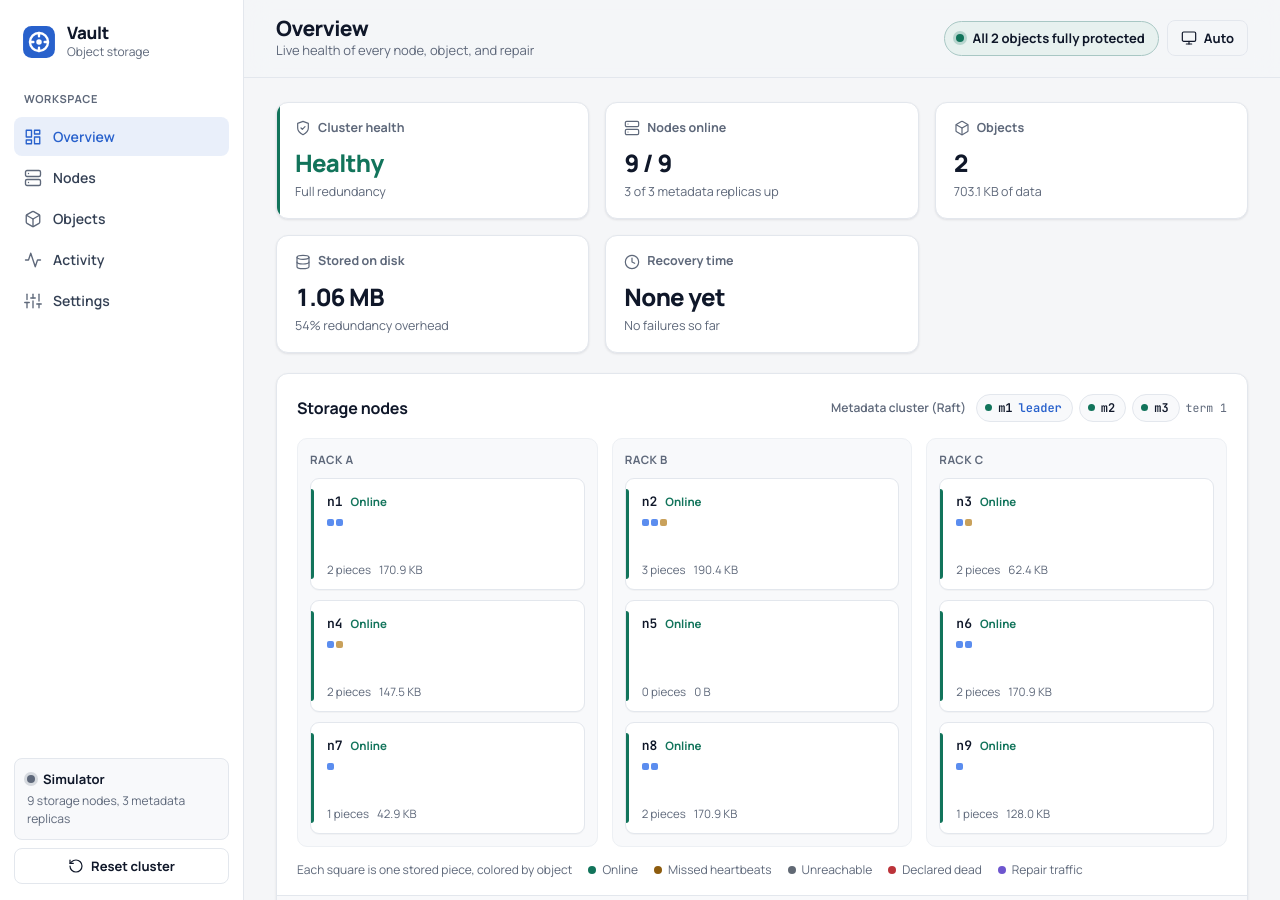
Scenario: <App /> › shows a chunk map with one row per segment and a column per piece
The width and height of the screenshot is (1280, 900).
Click the link "Objects" at (65, 219), box [24,209,106,228]
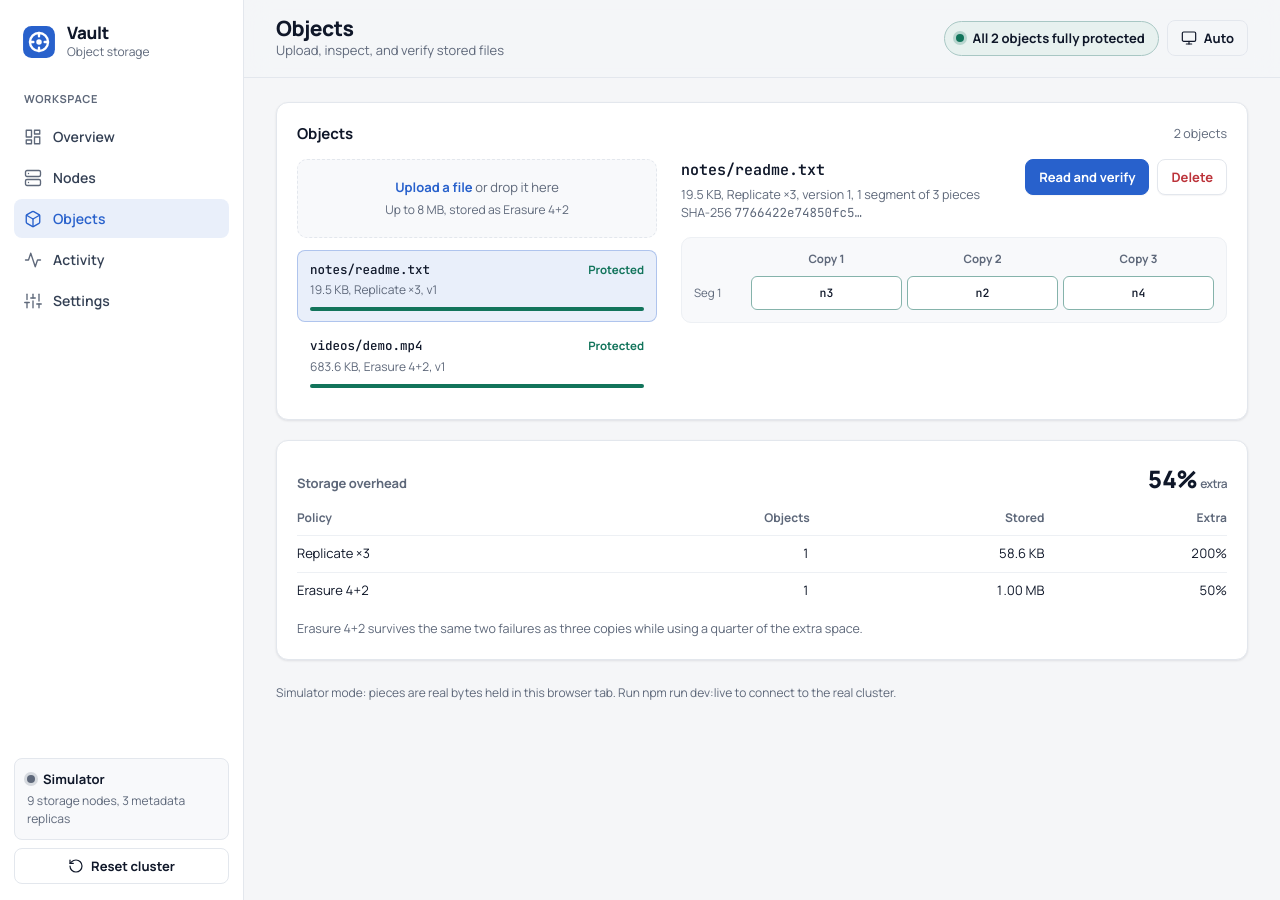
Click the button "videos/demo.mp4 Protected 683.6 KB, Erasure 4+2, v1" at (366, 346), box [297,326,657,399]
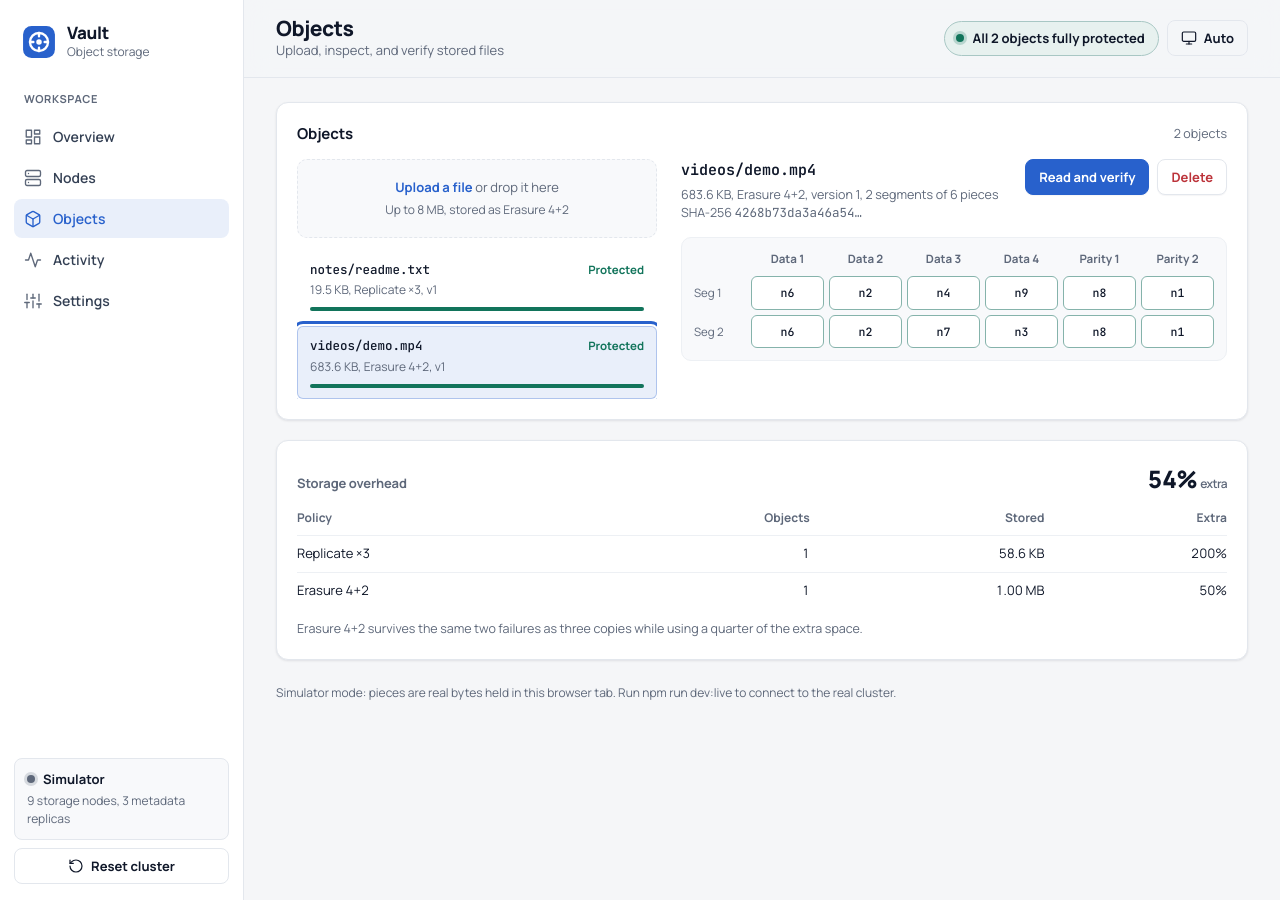
Expected: the column heading "Parity 2" is shown, [1156,251,1198,266]
